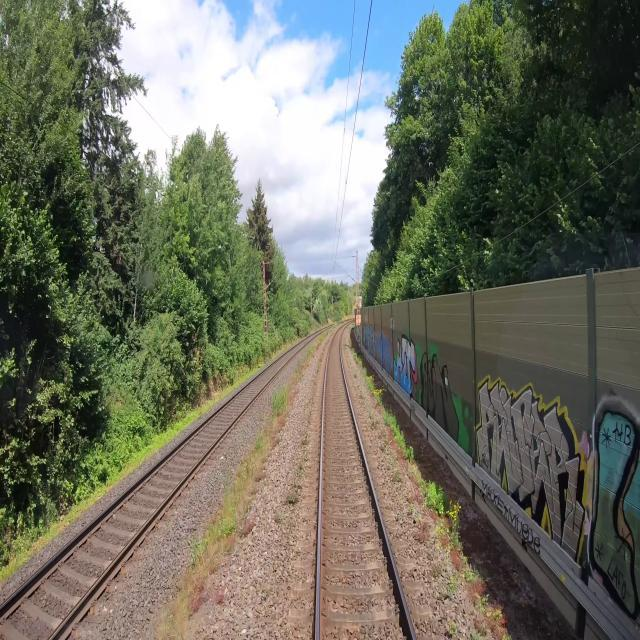Plant: (156, 374, 292, 637), (444, 563, 460, 601), (292, 357, 308, 379), (445, 617, 460, 637), (304, 343, 314, 360)
